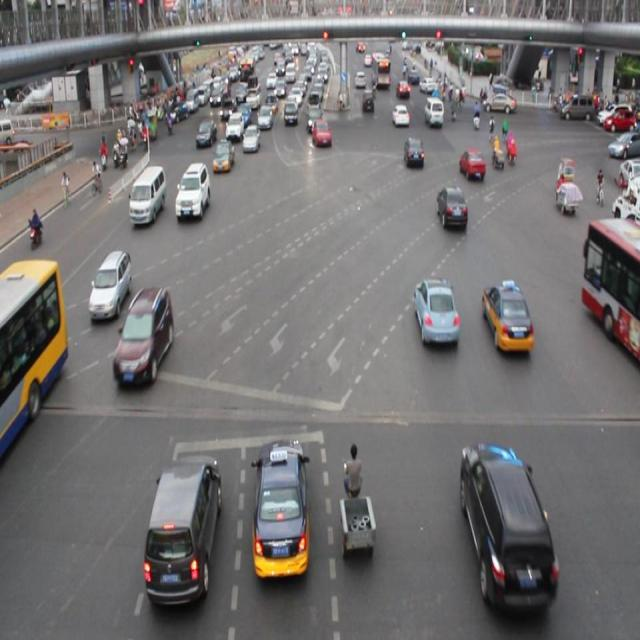car: (459, 442, 556, 607), (251, 441, 310, 581), (115, 284, 170, 392), (482, 282, 534, 352), (412, 276, 458, 346), (88, 250, 131, 318), (175, 160, 210, 220), (436, 182, 465, 230), (459, 146, 484, 181), (309, 117, 332, 151), (403, 136, 424, 170), (213, 140, 233, 172), (195, 119, 216, 149), (240, 123, 260, 154), (225, 110, 244, 142), (390, 103, 409, 128)
truck: (144, 451, 218, 607), (130, 167, 166, 224), (423, 95, 444, 128)
van: (1, 261, 64, 461), (580, 215, 640, 367)
